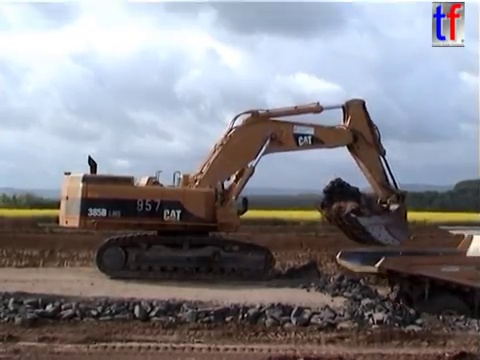excavator: (56, 95, 412, 284)
truck: (333, 232, 480, 351)
